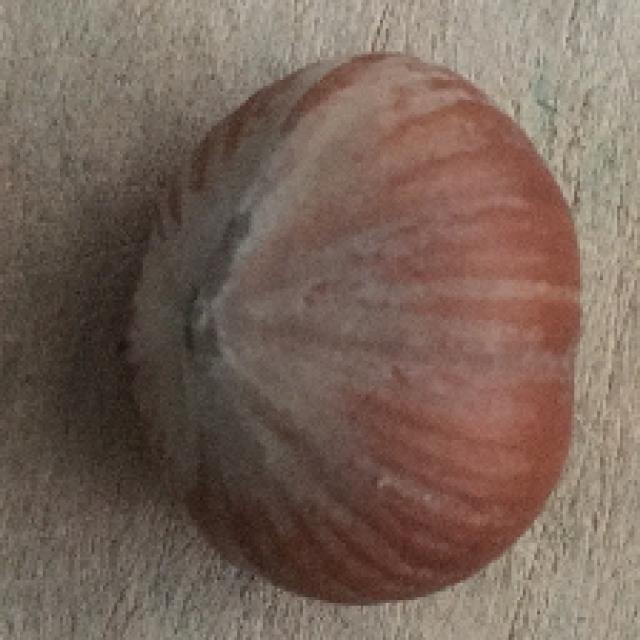qualityHazelnut: (110, 44, 595, 612)
